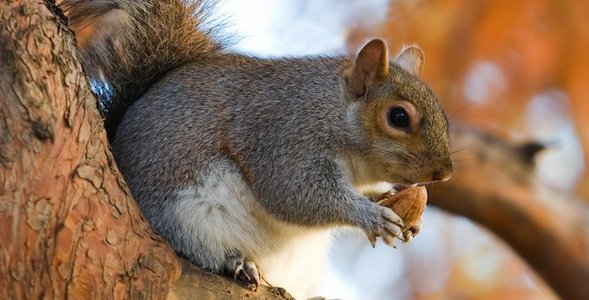Ardilla: (100, 42, 460, 300)
